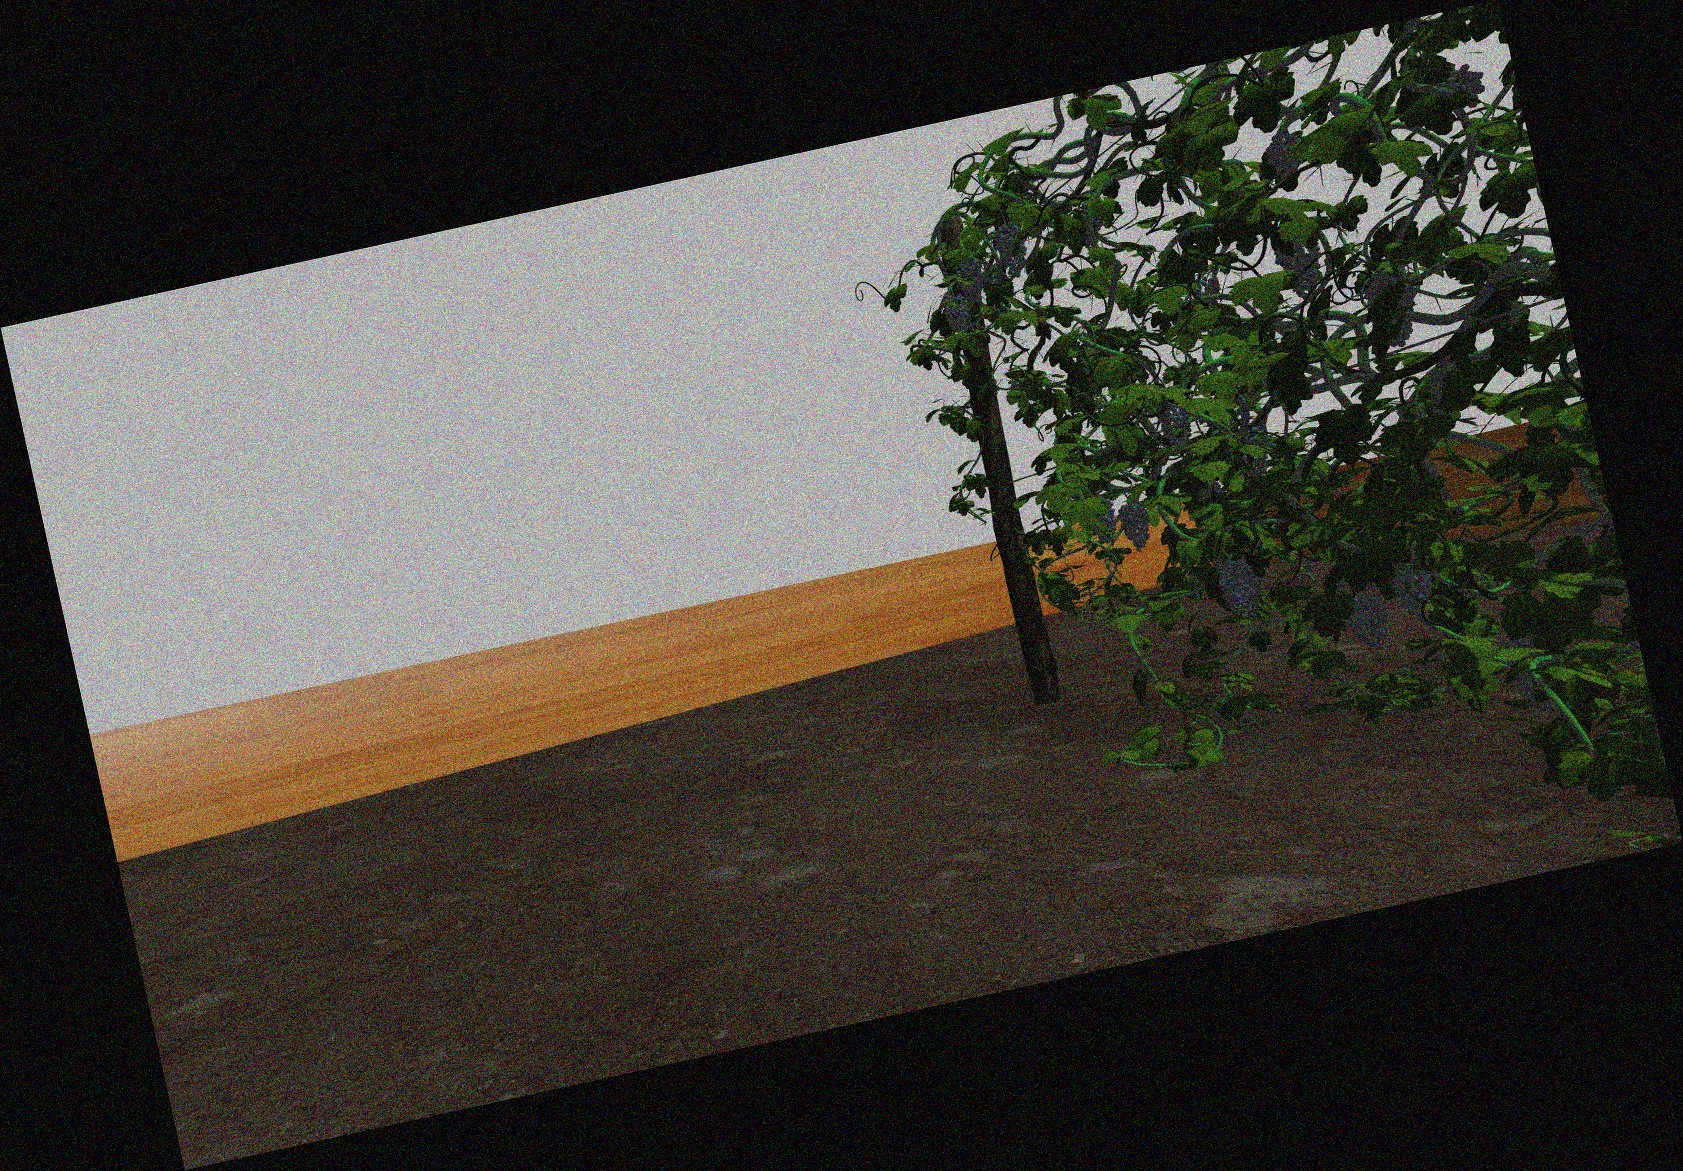grape: (1368, 274, 1416, 346), (1278, 231, 1325, 298), (1217, 556, 1260, 621), (1348, 592, 1390, 649), (1391, 566, 1436, 617), (1436, 66, 1485, 106), (1266, 133, 1303, 182), (995, 220, 1026, 277), (1157, 398, 1191, 444), (1122, 501, 1151, 552), (957, 258, 983, 304), (943, 293, 969, 334), (1093, 499, 1116, 543)
